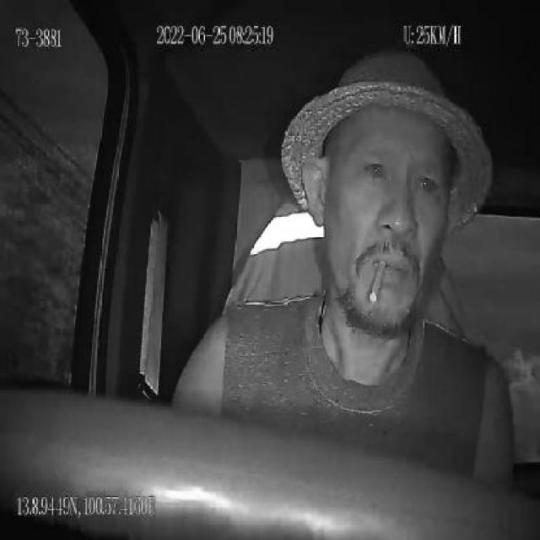smoking: (367, 256, 388, 308)
